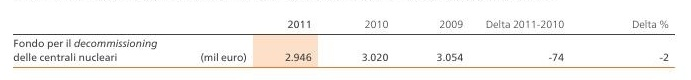table: (0, 0, 691, 80)
